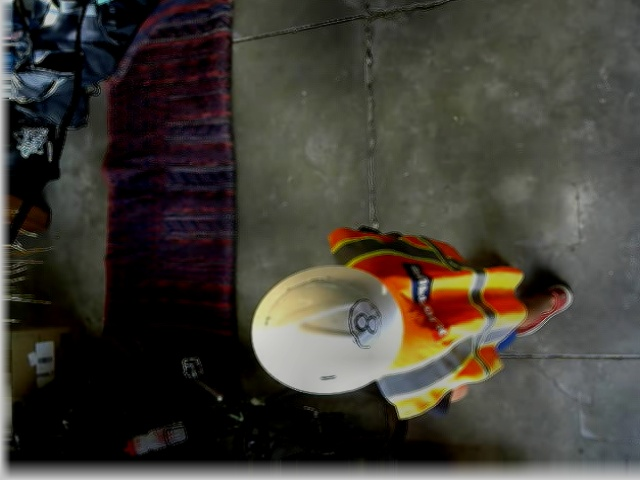eight: (348, 299, 380, 349)
